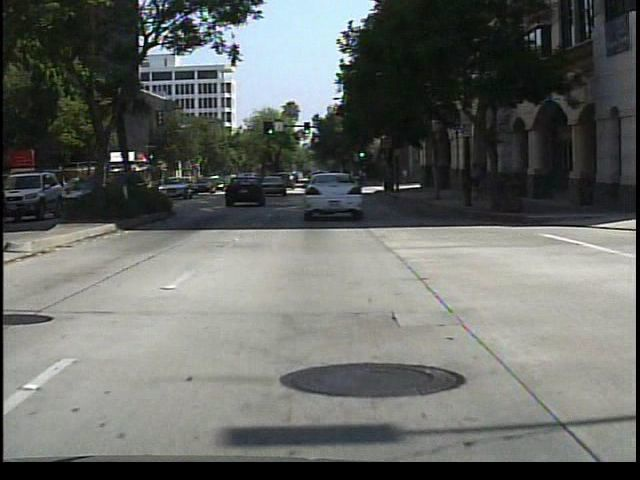person: (468, 160, 482, 205)
